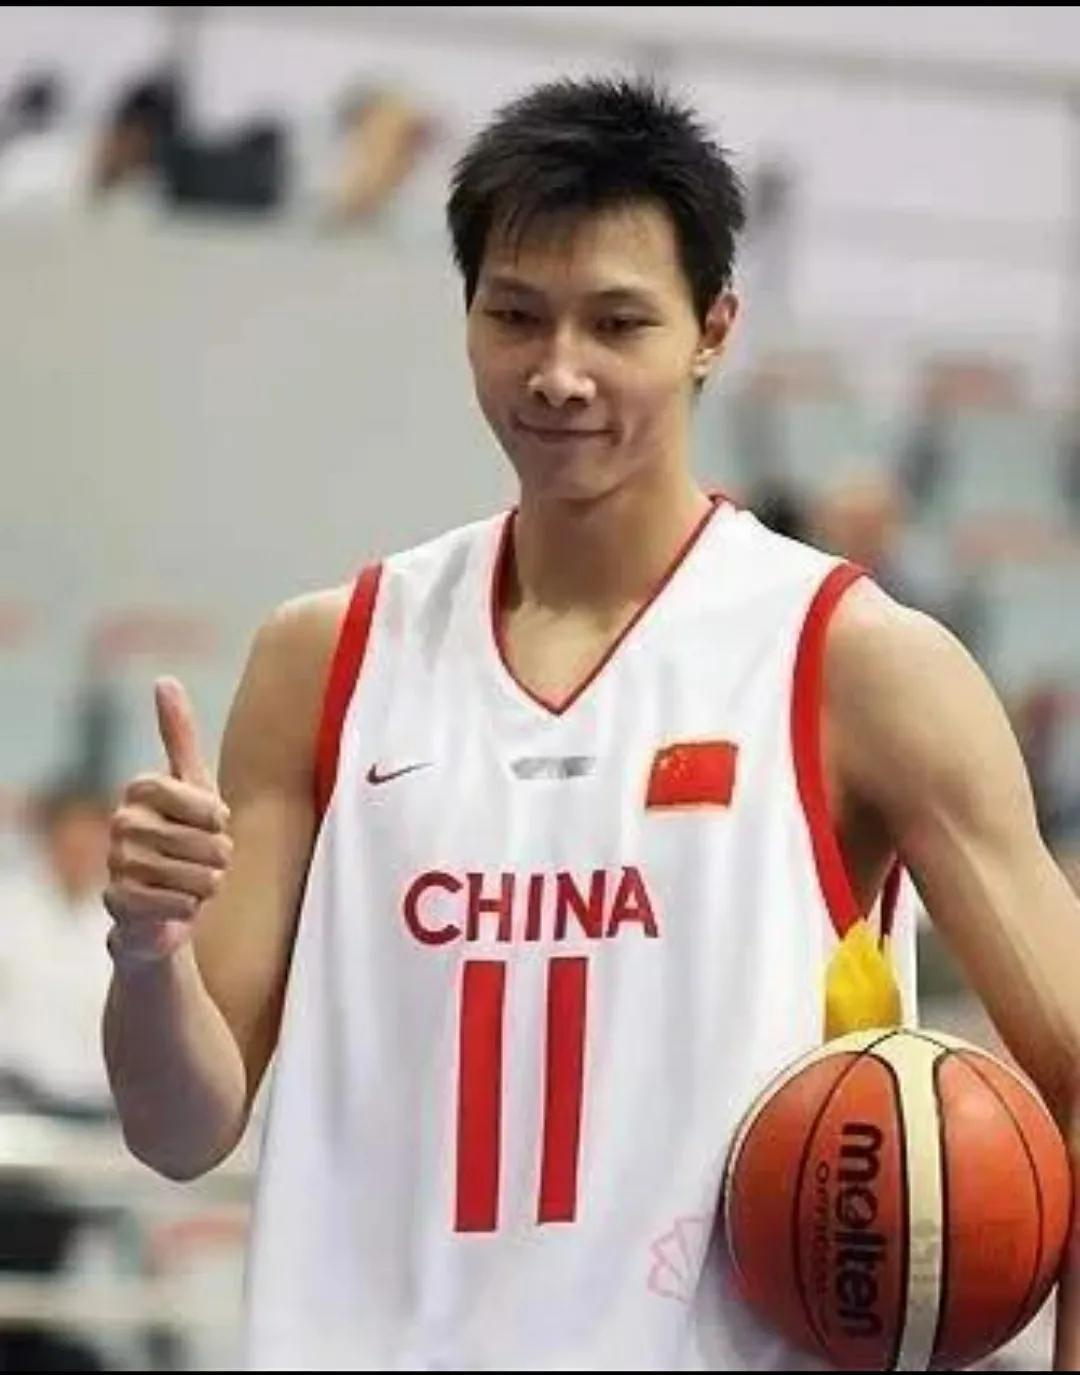ball: (719, 1026, 1080, 1375)
